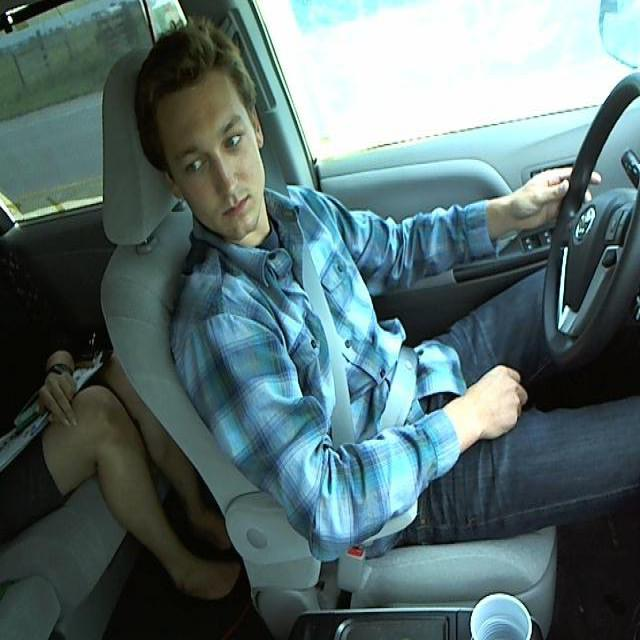seatbelt: (281, 213, 429, 439)
